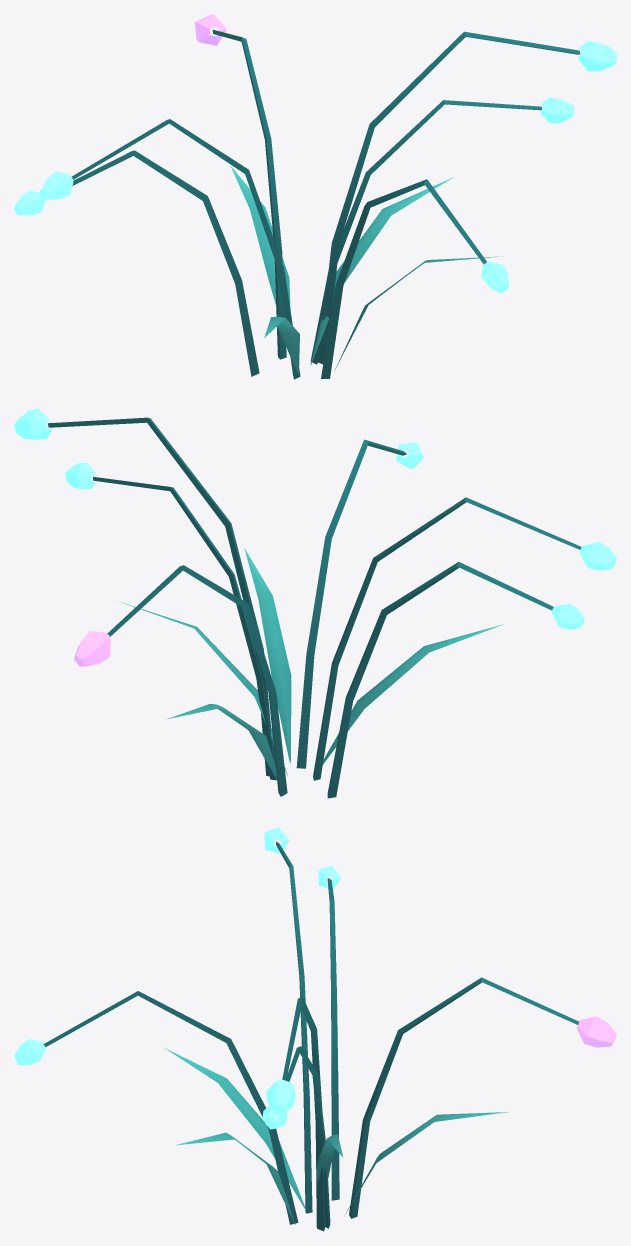
File: glow_reed_lod2.glb
3 views of the same model, one above another, from view 1: azimuth 30°, elevation 25°; view 2: azimuth 150°, elevation 25°; view 3: azimuth 270°, elevation 25° (orthographic). The views are drawn at different scales.
Visible parts, largest first — view 1: GlowReed; view 2: GlowReed; view 3: GlowReed.
Part boxes in pixels (x1=…): GlowReed: x1=14, y1=14, x2=616, y2=379; GlowReed: x1=14, y1=408, x2=616, y2=798; GlowReed: x1=14, y1=827, x2=616, y2=1231.
Bounding box in the file's own units: 2.72 × 1.39 × 2.58.
